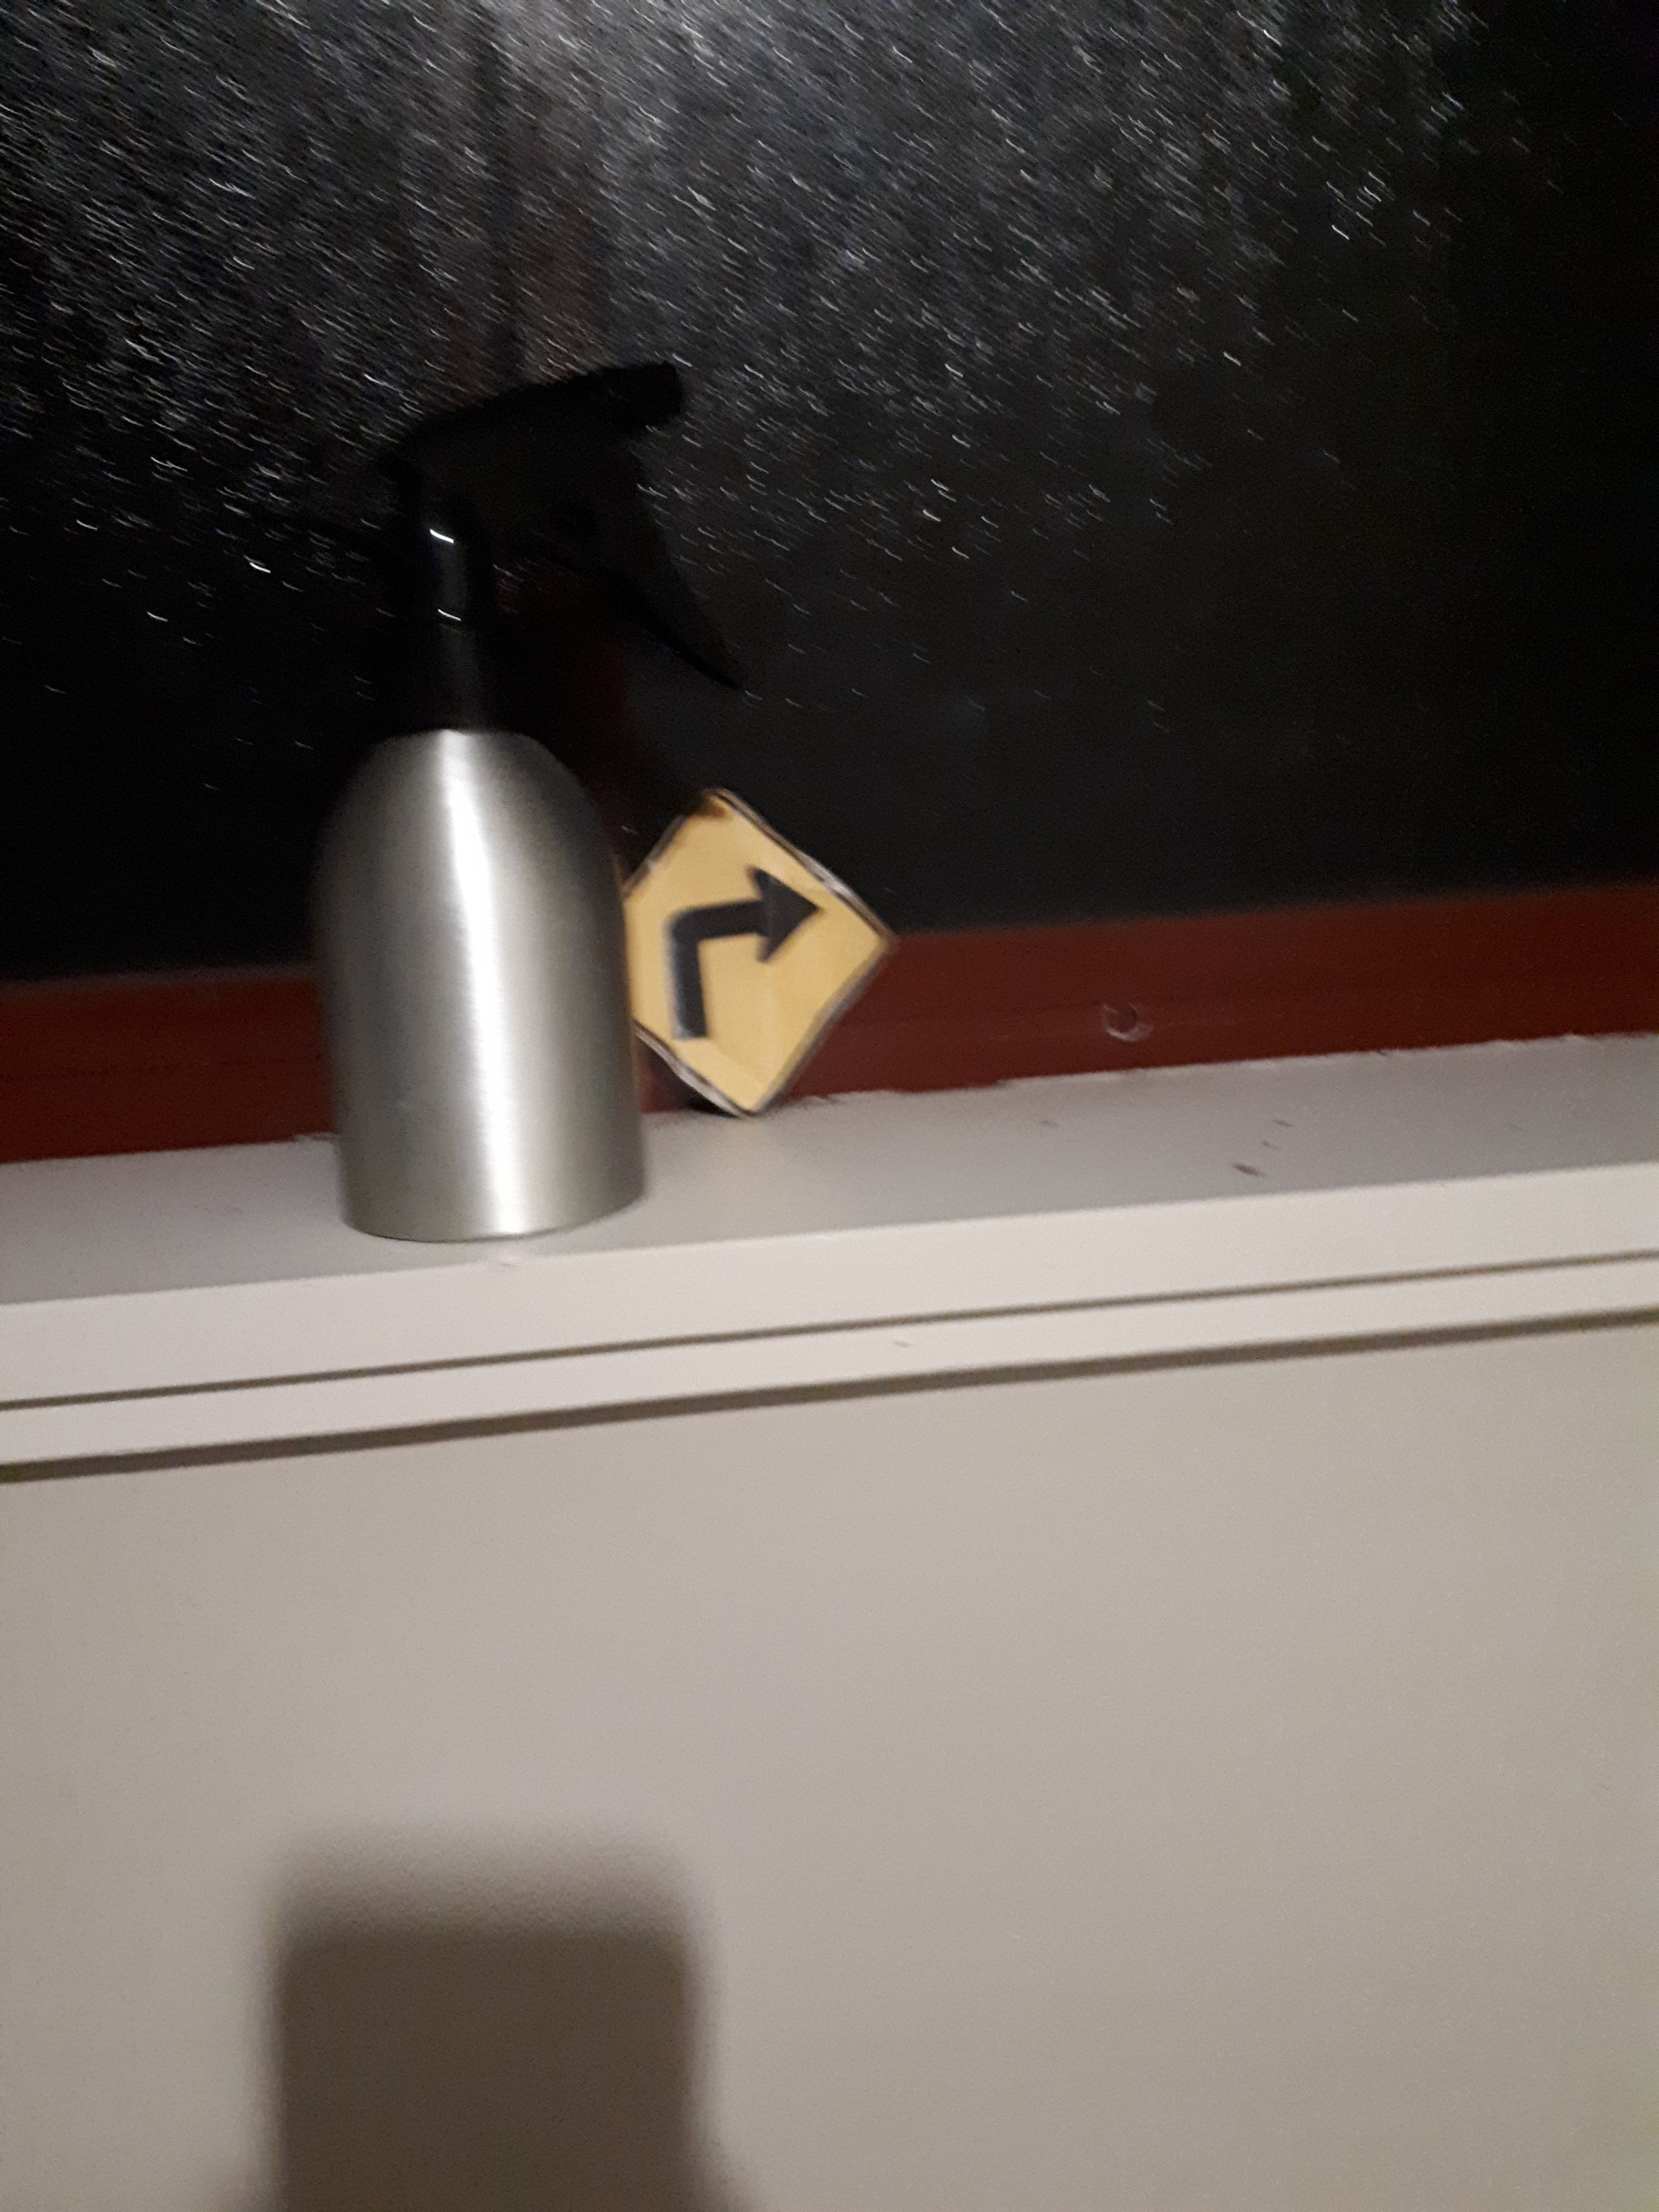right: (594, 805, 856, 1052), (653, 859, 829, 1157)
